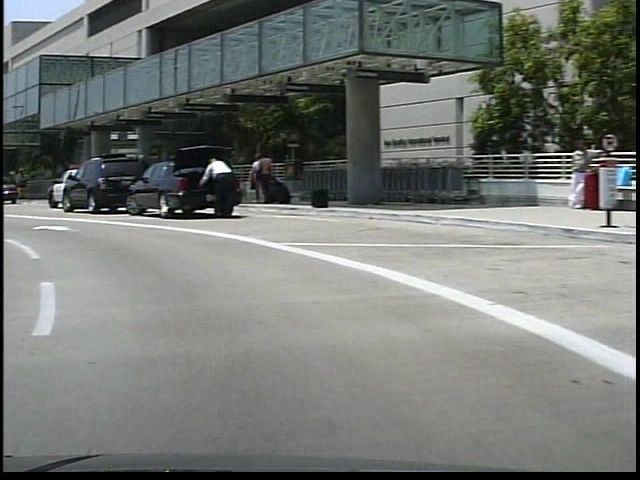person: (193, 157, 235, 225), (251, 153, 271, 209), (243, 153, 260, 208)
